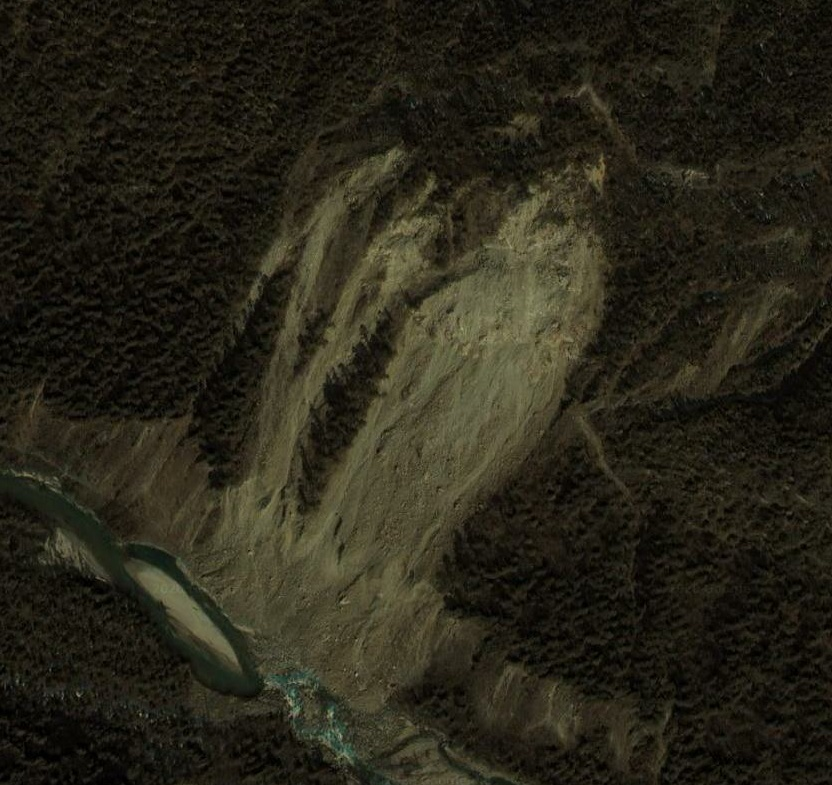slope: (11, 140, 654, 782)
